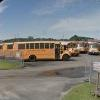Bus: (6, 34, 80, 60)
